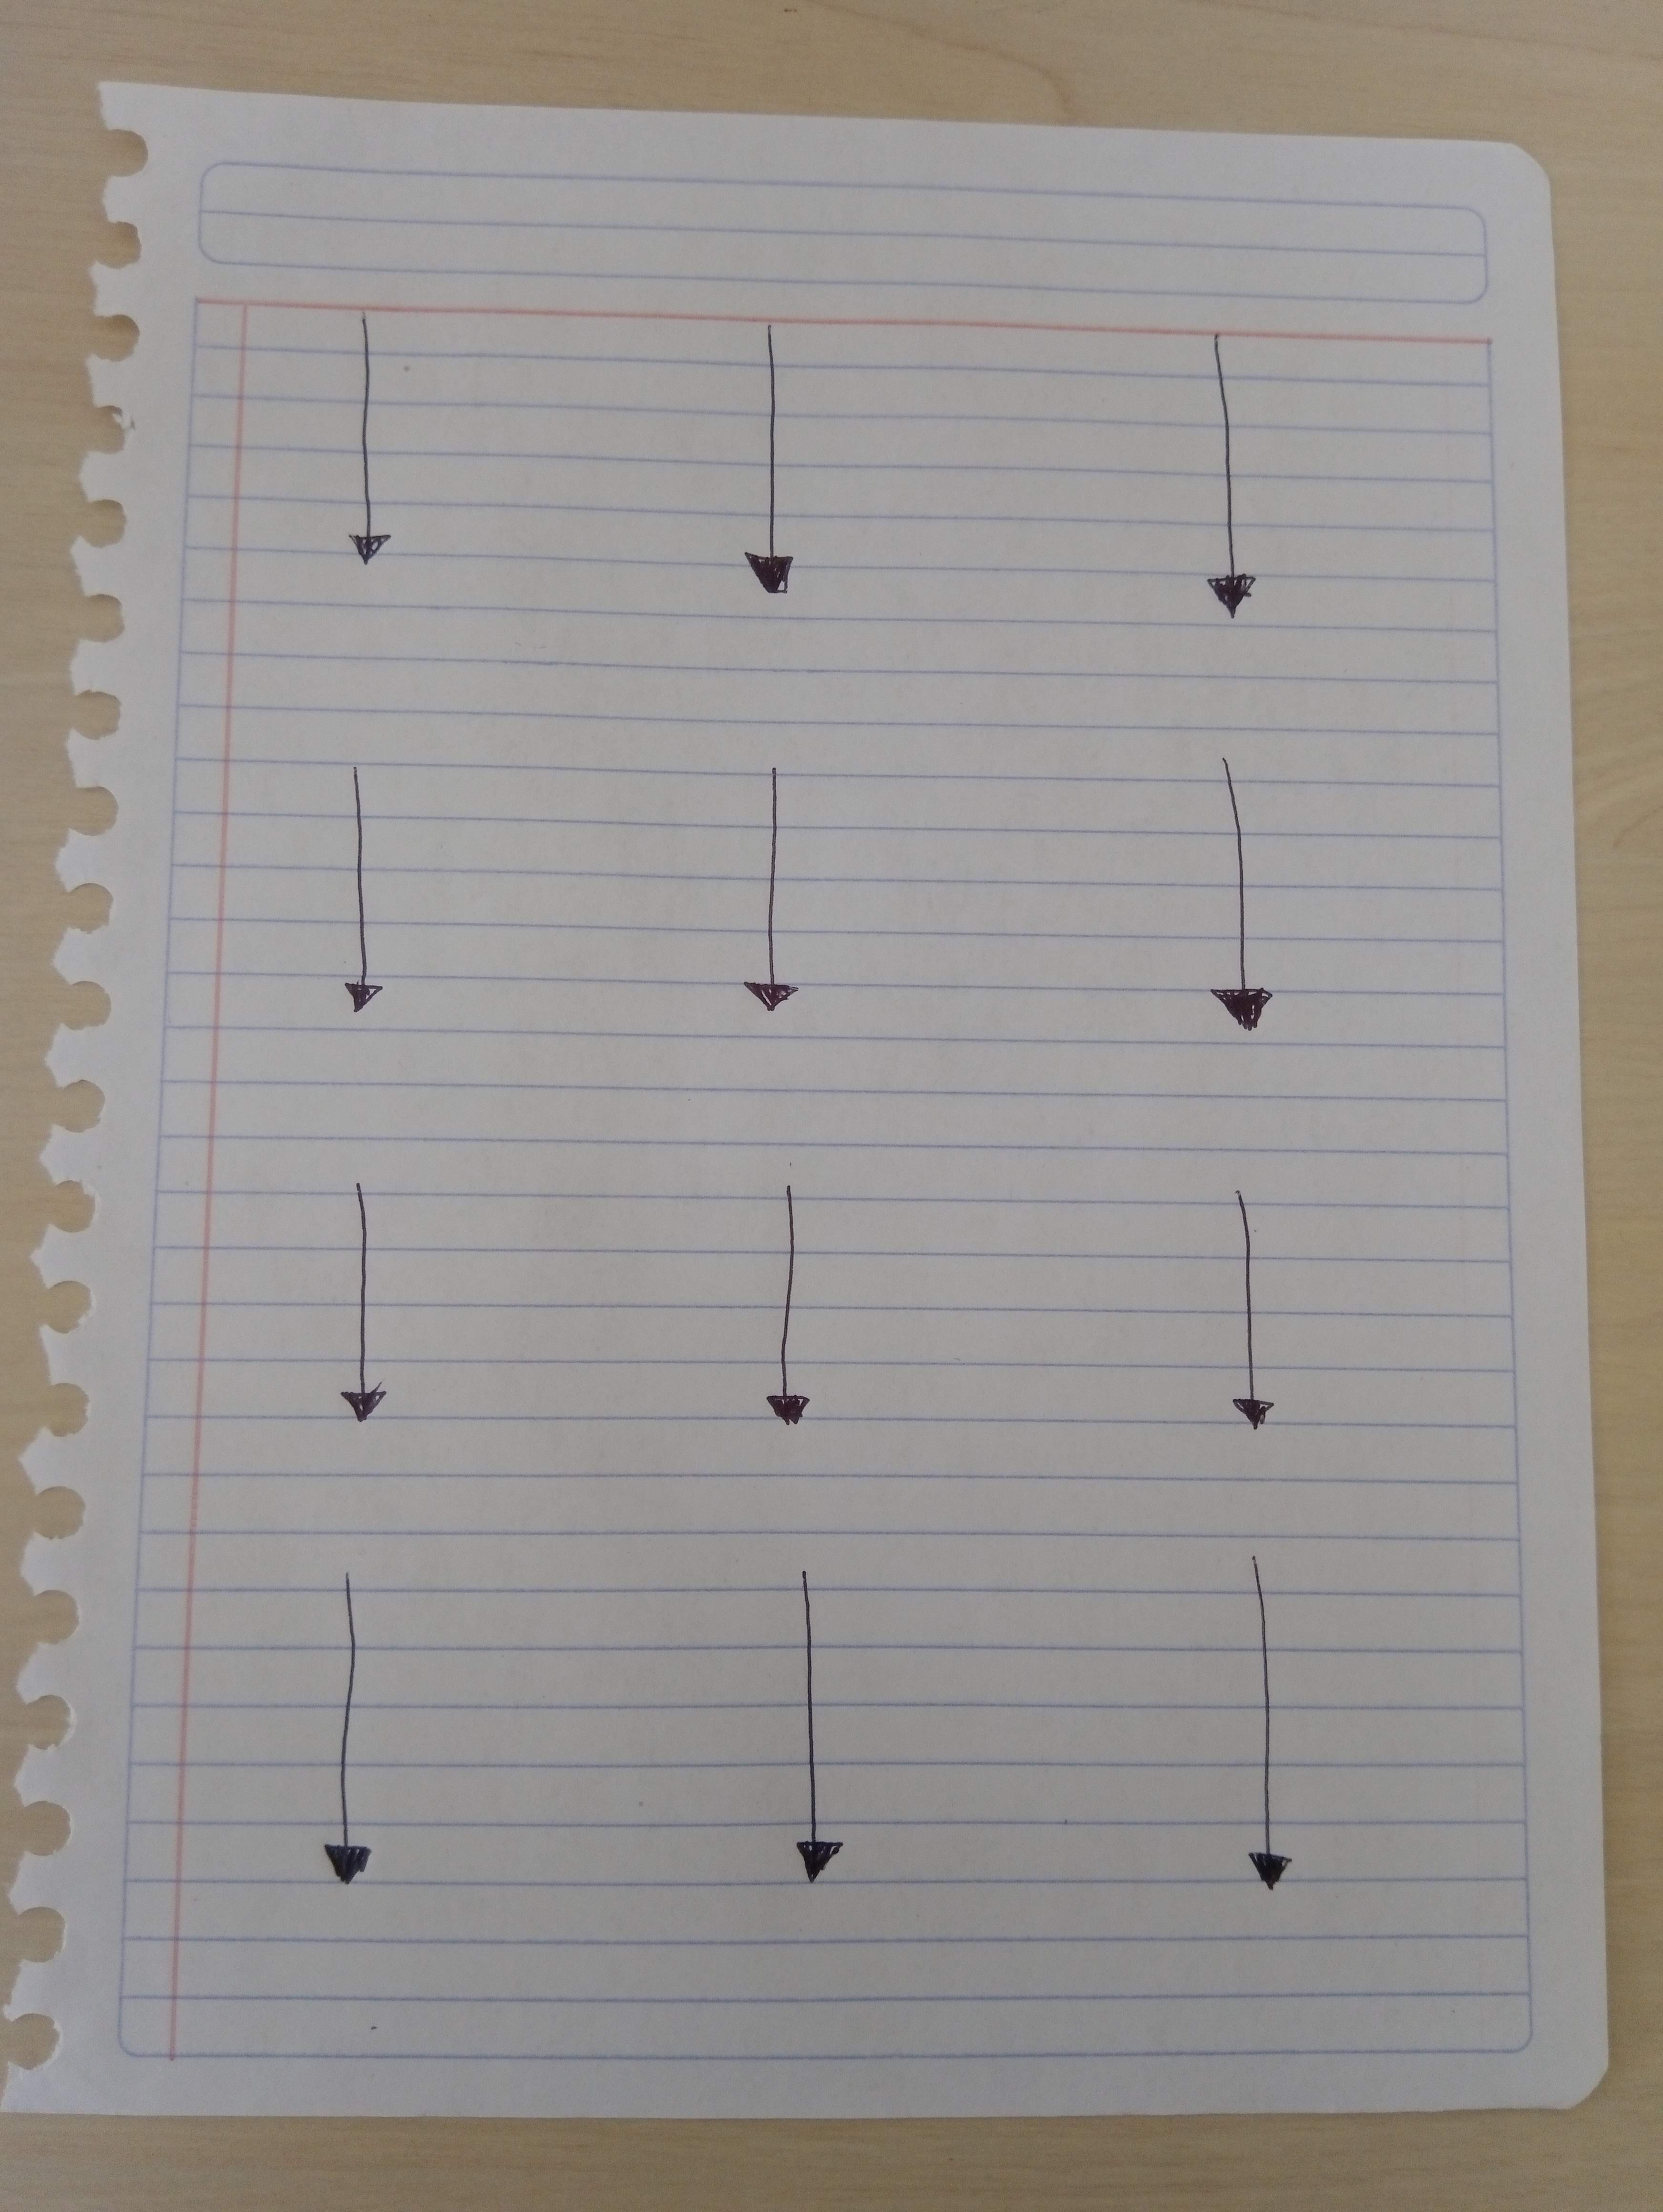arrow_line_down: (767, 1573, 901, 1903), (1186, 1187, 1308, 1474), (307, 1561, 407, 1903), (1186, 763, 1294, 1067), (735, 321, 840, 634), (1235, 1561, 1326, 1899), (302, 772, 419, 1032), (1183, 333, 1277, 646), (700, 768, 814, 1020), (313, 316, 423, 566), (302, 1171, 402, 1440), (741, 1187, 831, 1449)
